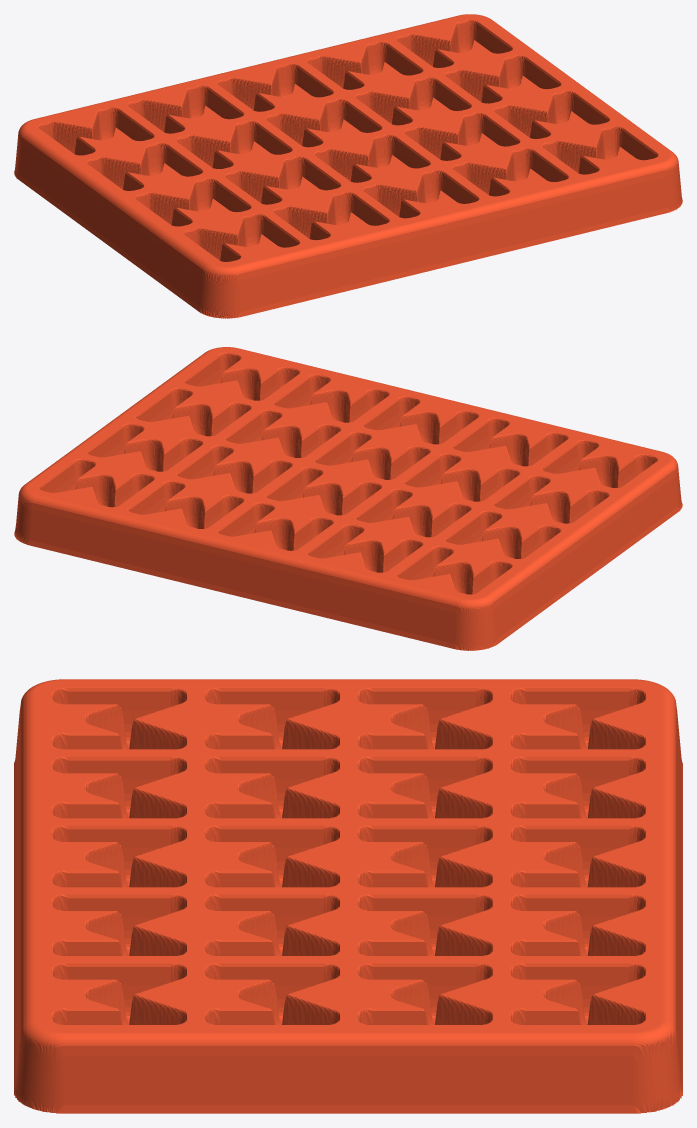
Rendered from mold.glb.
3 views of the same model, one above another, from view 1: azimuth 30°, elevation 25°; view 2: azimuth 150°, elevation 25°; view 3: azimuth 270°, elevation 25° (orthographic). The views are drawn at different scales.
Visible parts, largest first — view 1: geometry_0; view 2: geometry_0; view 3: geometry_0.
Boxes of the visible parts, <box> form: geometry_0: <box>14,14,682,318</box>; geometry_0: <box>14,347,682,650</box>; geometry_0: <box>14,679,682,1113</box>.
Size of the model in its own units: 0.1571 by 0.0145 by 0.1205.
